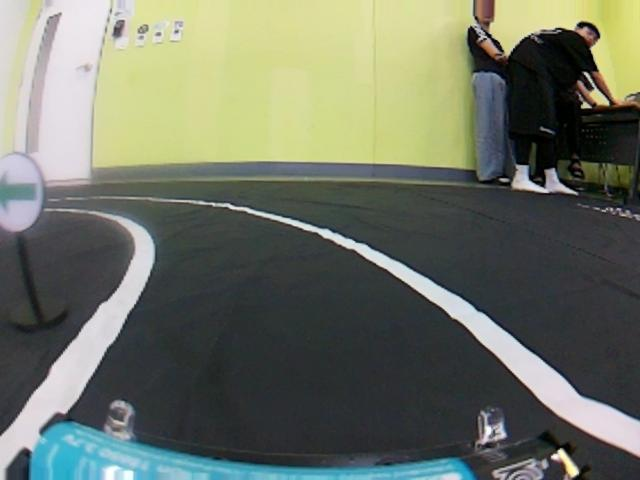sign_left: (0, 145, 50, 241)
straight: (0, 263, 589, 475)
